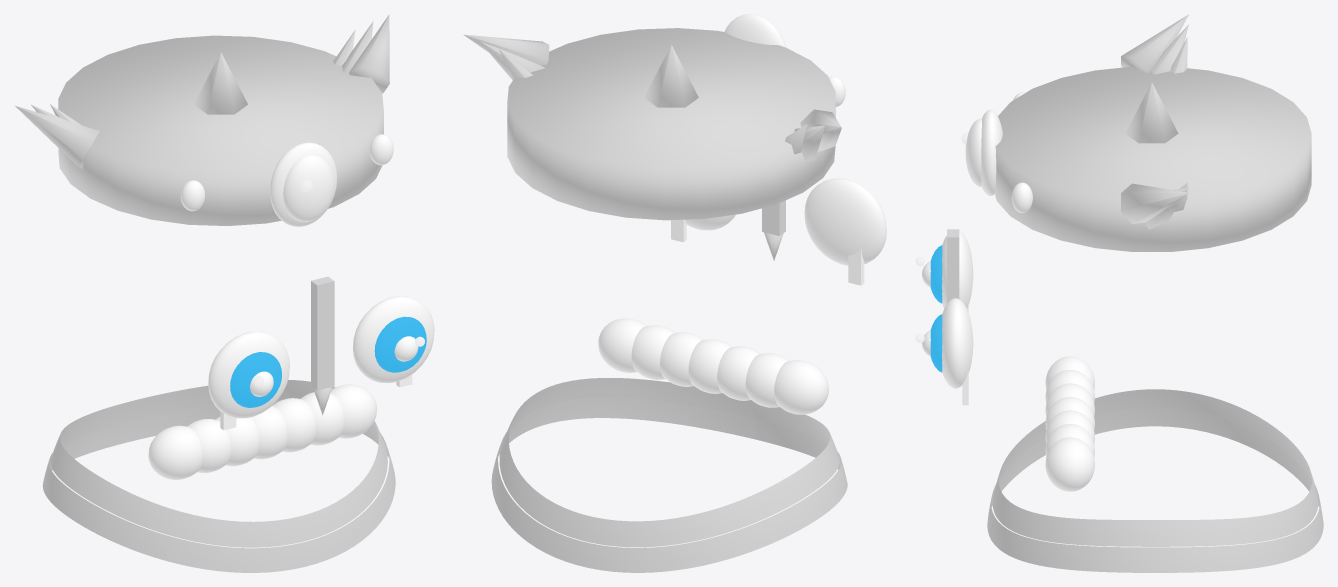
The model's file is trait-oneoff-krown.glb.
3 views of the same model, side by side, from view 1: azimuth 30°, elevation 25°; view 2: azimuth 150°, elevation 25°; view 3: azimuth 270°, elevation 25° (orthographic). The views are drawn at different scales.
Parts seen in each view (by area): view 1: trait_oneoff_band, trait_oneoff_body_gorget, trait_oneoff_body_gorget2, trait_oneoff_kwhite_L, trait_oneoff_kwhite_R, trait_oneoff_noseguard, trait_oneoff_gem, trait_oneoff_fur_0, trait_oneoff_cwing_L2, trait_oneoff_crest, trait_oneoff_gemframe, trait_oneoff_kiris_L (+10 smaller); view 2: trait_oneoff_band, trait_oneoff_body_gorget2, trait_oneoff_body_gorget, trait_oneoff_kwhite_L, trait_oneoff_fur_0, trait_oneoff_crest, trait_oneoff_fur_6, trait_oneoff_fur_3, trait_oneoff_fur_1, trait_oneoff_fur_5, trait_oneoff_fur_2, trait_oneoff_fur_4 (+6 smaller); view 3: trait_oneoff_band, trait_oneoff_body_gorget2, trait_oneoff_body_gorget, trait_oneoff_kwhite_R, trait_oneoff_fur_6, trait_oneoff_crest, trait_oneoff_cwing_R2, trait_oneoff_cwing_L2, trait_oneoff_gemframe, trait_oneoff_kwhite_L, trait_oneoff_noseguard, trait_oneoff_gem (+10 smaller).
Boxes of the visible parts, x1,y1,x2,y2 form: trait_oneoff_band: (58,35,383,225); trait_oneoff_body_gorget: (50,379,387,547); trait_oneoff_body_gorget2: (42,399,395,572); trait_oneoff_kwhite_L: (208,331,289,418); trait_oneoff_kwhite_R: (352,296,434,383); trait_oneoff_noseguard: (311,276,334,390); trait_oneoff_gem: (283,154,334,221); trait_oneoff_fur_0: (148,425,202,479); trait_oneoff_cwing_L2: (15,106,99,167); trait_oneoff_crest: (194,52,247,114); trait_oneoff_gemframe: (270,142,337,226); trait_oneoff_kiris_L: (230,352,281,407); trait_oneoff_band: (507,28,835,220); trait_oneoff_body_gorget2: (491,397,847,572); trait_oneoff_body_gorget: (499,378,839,547); trait_oneoff_kwhite_L: (804,178,886,265); trait_oneoff_fur_0: (774,360,828,414); trait_oneoff_crest: (644,45,698,107); trait_oneoff_fur_6: (598,318,646,372); trait_oneoff_fur_3: (688,339,732,393); trait_oneoff_fur_1: (745,353,789,407); trait_oneoff_fur_5: (631,325,675,379); trait_oneoff_fur_2: (717,346,760,400); trait_oneoff_fur_4: (660,332,703,386); trait_oneoff_band: (994,66,1311,251); trait_oneoff_body_gorget2: (987,407,1323,572); trait_oneoff_body_gorget: (992,389,1318,546); trait_oneoff_kwhite_R: (942,298,973,388); trait_oneoff_fur_6: (1045,437,1094,491); trait_oneoff_crest: (1125,82,1178,143); trait_oneoff_cwing_R2: (1121,183,1188,224); trait_oneoff_cwing_L2: (1121,14,1188,73); trait_oneoff_gemframe: (981,109,1002,195); trait_oneoff_kwhite_L: (942,230,973,308); trait_oneoff_noseguard: (947,229,959,303); trait_oneoff_gem: (965,118,981,186).
Size of the model in its own units: 1.19 by 1.38 by 1.15.
